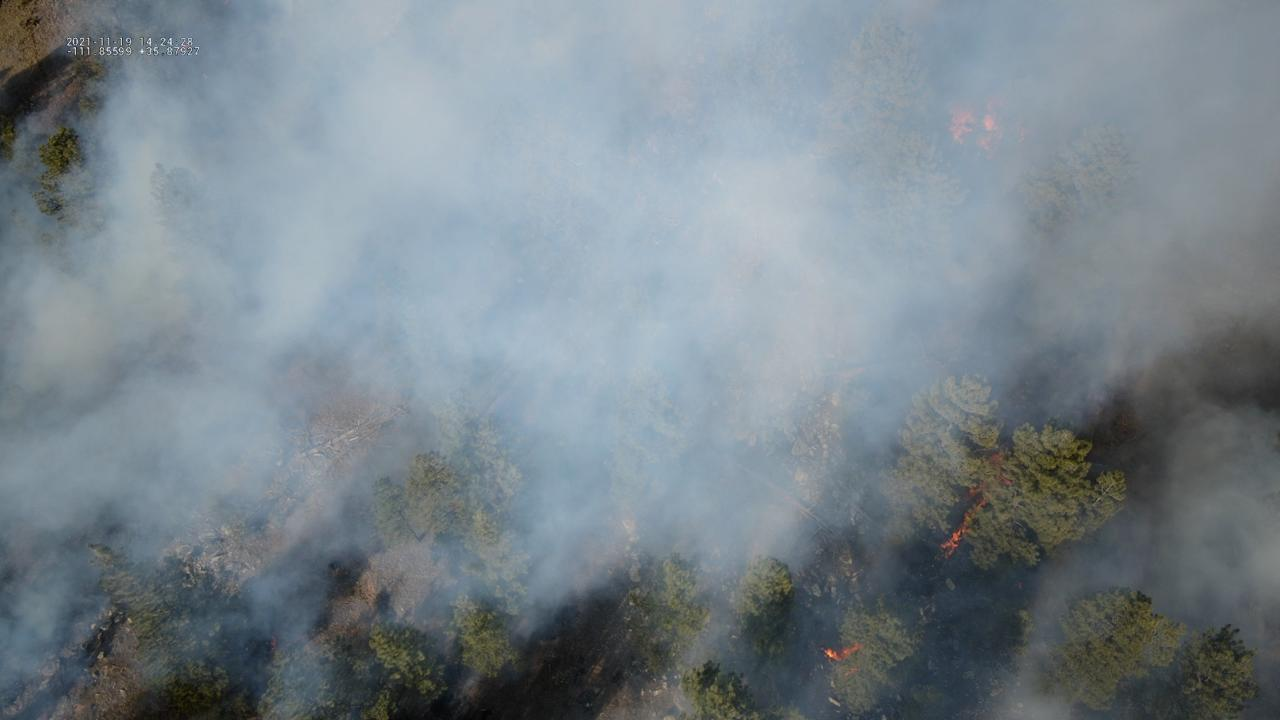fire: (939, 498, 987, 557), (948, 109, 975, 143), (822, 642, 863, 662), (982, 115, 997, 132), (990, 453, 1002, 467), (1002, 477, 1013, 487), (1017, 582, 1025, 591)
smoke: (0, 0, 1280, 720)
